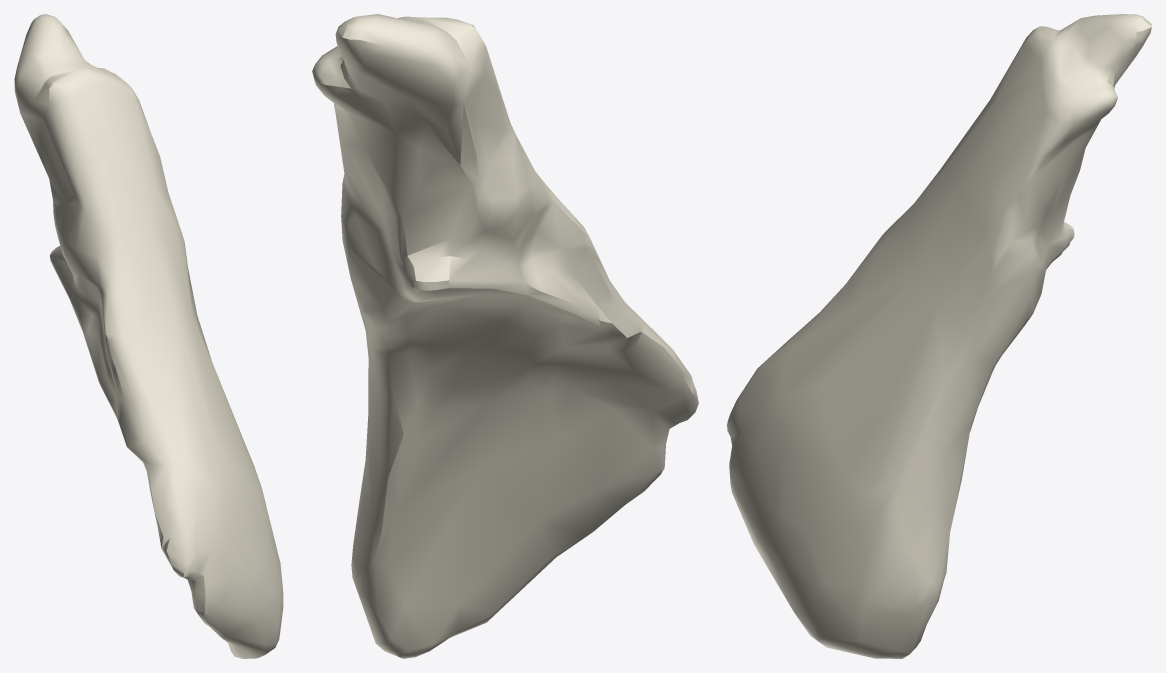
Rendered from fma53648.glb.
3 renders of one model, left to right at view 1: azimuth 30°, elevation 25°; view 2: azimuth 150°, elevation 25°; view 3: azimuth 270°, elevation 25°, orthographic. The views are drawn at different scales.
Visible parts, largest first — view 1: FMA53648; view 2: FMA53648; view 3: FMA53648.
Part boxes in pixels (box(x1,y1,x2,y2)): FMA53648: box(14, 14, 283, 658); FMA53648: box(312, 14, 698, 658); FMA53648: box(727, 14, 1151, 658).
Size of the model in its own units: 0.00974 by 0.03 by 0.0193.
